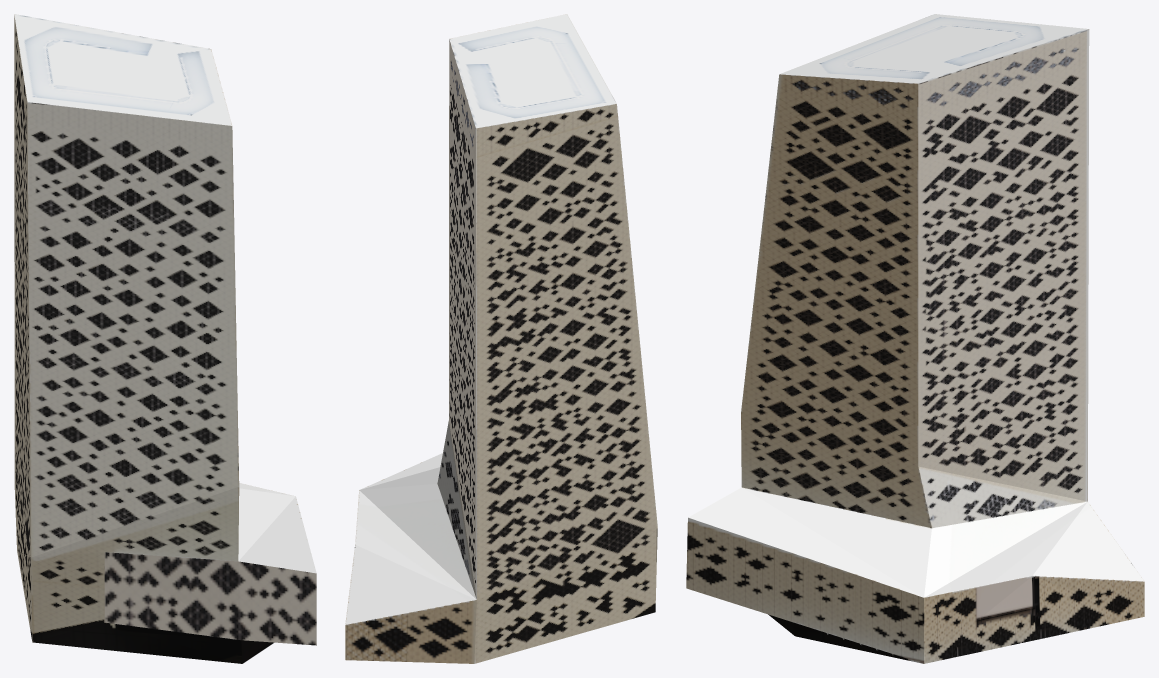
3 views of the same model, side by side, from view 1: azimuth 30°, elevation 25°; view 2: azimuth 150°, elevation 25°; view 3: azimuth 270°, elevation 25° (orthographic).
Visible parts, largest first — view 1: 110b.001; view 2: 110b.001; view 3: 110b.001.
Part boxes in pixels (x1,y1,x2,y2): 110b.001: (14,14,316,663); 110b.001: (345,14,657,663); 110b.001: (686,14,1144,663).
Bounding box in the file's own units: 53.71 × 97.8 × 75.61.
1 material, 1 textured.
